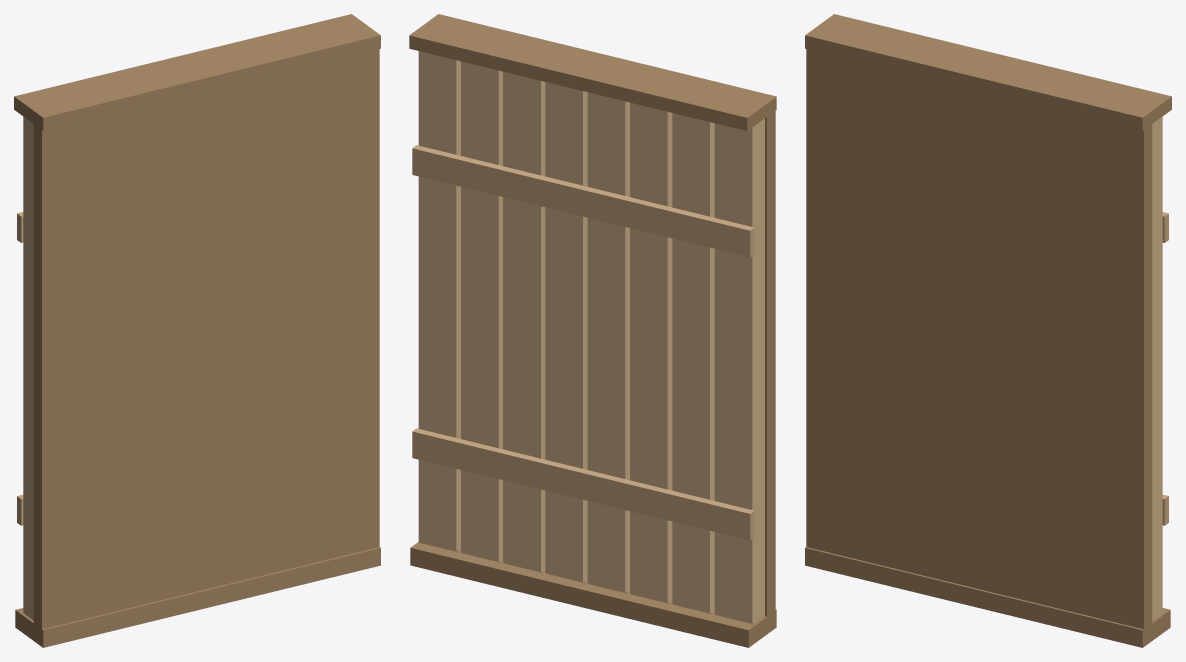
File: PlainWoodenWall.fbx
The picture shows the model from 3 angles, left to right: view 1: azimuth 30°, elevation 25°; view 2: azimuth 150°, elevation 25°; view 3: azimuth 330°, elevation 25°; orthographic projection.
Parts seen in each view (by area): view 1: PlainWoodenWall.Frame, PlainWoodenWall.Planks; view 2: PlainWoodenWall.Planks, PlainWoodenWall.Frame, PlainWoodenWall.Rails; view 3: PlainWoodenWall.Frame, PlainWoodenWall.Planks.
Boxes of the visible parts, x1,y1,x2,y2 form: PlainWoodenWall.Frame: (14, 14, 380, 647); PlainWoodenWall.Planks: (23, 117, 33, 620); PlainWoodenWall.Planks: (418, 51, 764, 624); PlainWoodenWall.Frame: (409, 14, 776, 647); PlainWoodenWall.Rails: (412, 145, 754, 540); PlainWoodenWall.Frame: (805, 14, 1171, 647); PlainWoodenWall.Planks: (1152, 117, 1162, 620).
Size of the model in its own units: 8 by 12 by 1.2.
